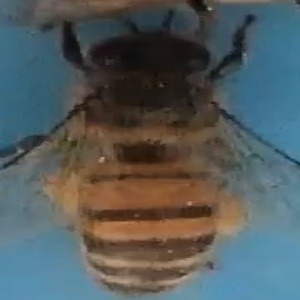bee: (8, 26, 293, 299)
